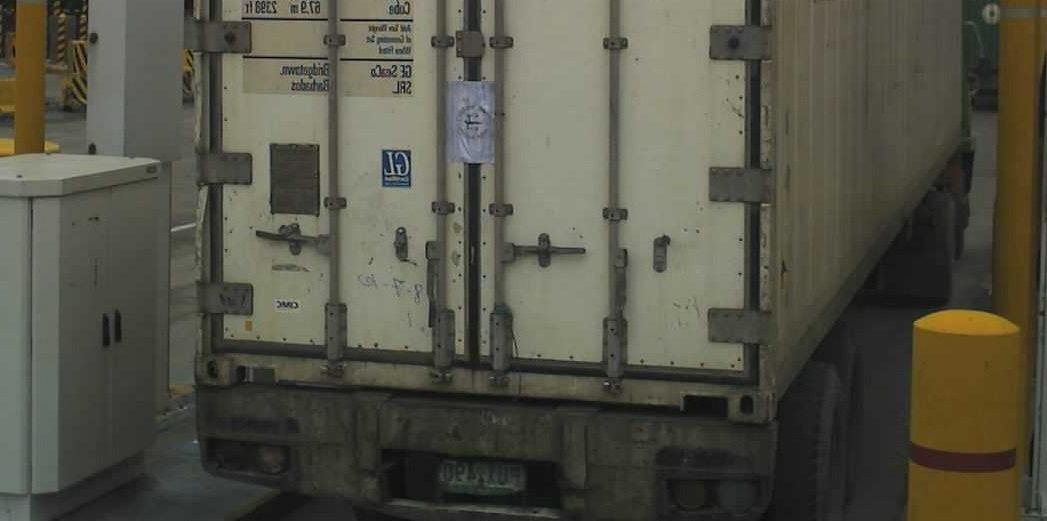container_door: (184, 1, 775, 428)
